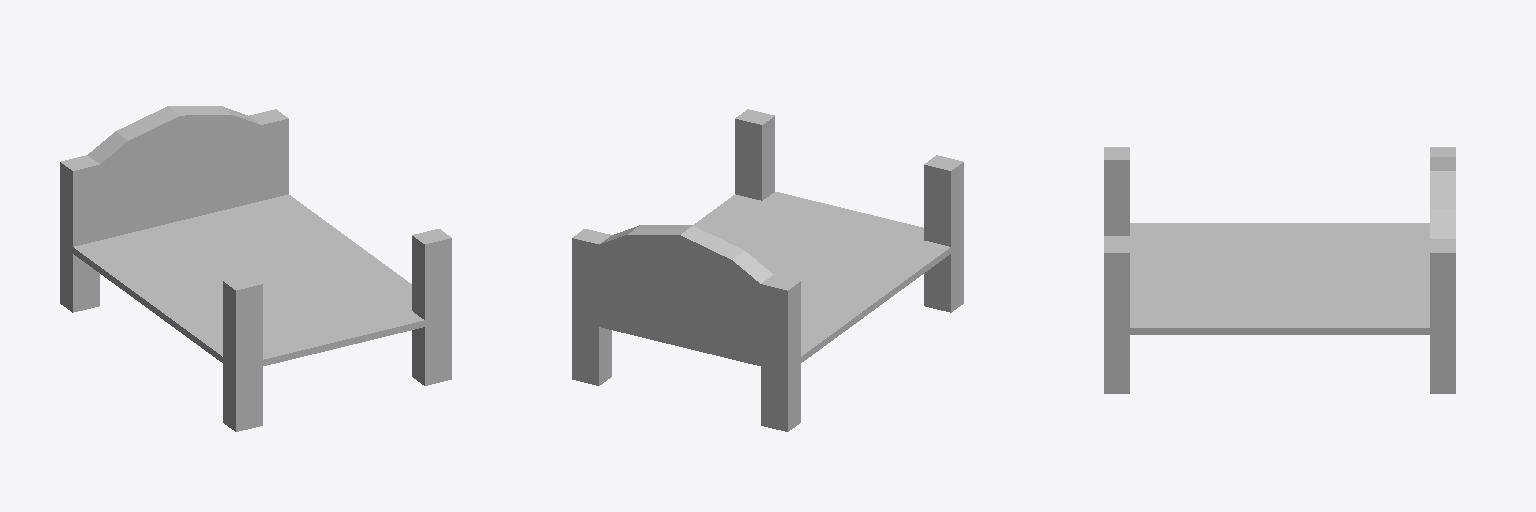
Rendered from bed.obj.
3 views of the same model, side by side, from view 1: azimuth 30°, elevation 25°; view 2: azimuth 150°, elevation 25°; view 3: azimuth 270°, elevation 25° (orthographic).
Visible parts, largest first — view 1: Bed_frame; view 2: Bed_frame; view 3: Bed_frame.
Part boxes in pixels (left/top/right/bottom): Bed_frame: left=60, top=106, right=451, bottom=431; Bed_frame: left=572, top=109, right=963, bottom=431; Bed_frame: left=1104, top=147, right=1455, bottom=393.
Bounding box in the file's own units: 33.75 × 25.52 × 47.65.